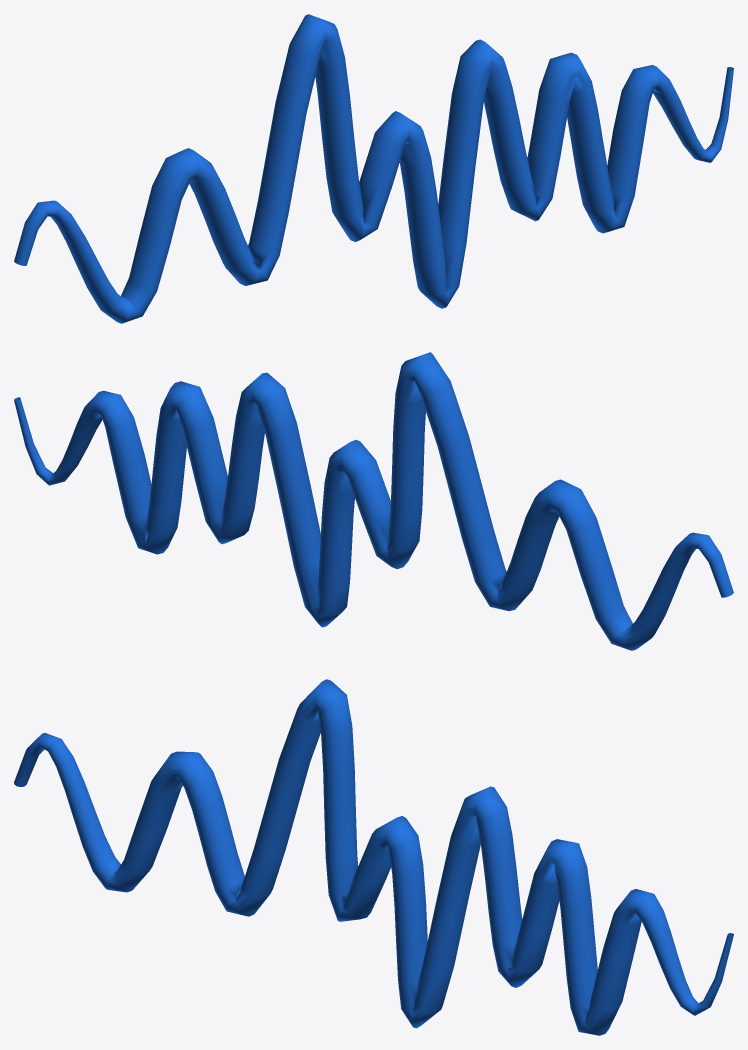
File: onda_sonido.obj
3 renders of one model, top to bottom at view 1: azimuth 30°, elevation 25°; view 2: azimuth 150°, elevation 25°; view 3: azimuth 330°, elevation 25°, orthographic.
Parts seen in each view (by area): view 1: Onda_de_sonido.002_Curva_Bézier.007; view 2: Onda_de_sonido.002_Curva_Bézier.007; view 3: Onda_de_sonido.002_Curva_Bézier.007.
Part boxes in pixels (<box>): Onda_de_sonido.002_Curva_Bézier.007: <box>14,14,733,323</box>; Onda_de_sonido.002_Curva_Bézier.007: <box>14,352,733,650</box>; Onda_de_sonido.002_Curva_Bézier.007: <box>14,679,733,1035</box>.
Size of the model in its own units: 2.85 by 1.17 by 0.2293.
